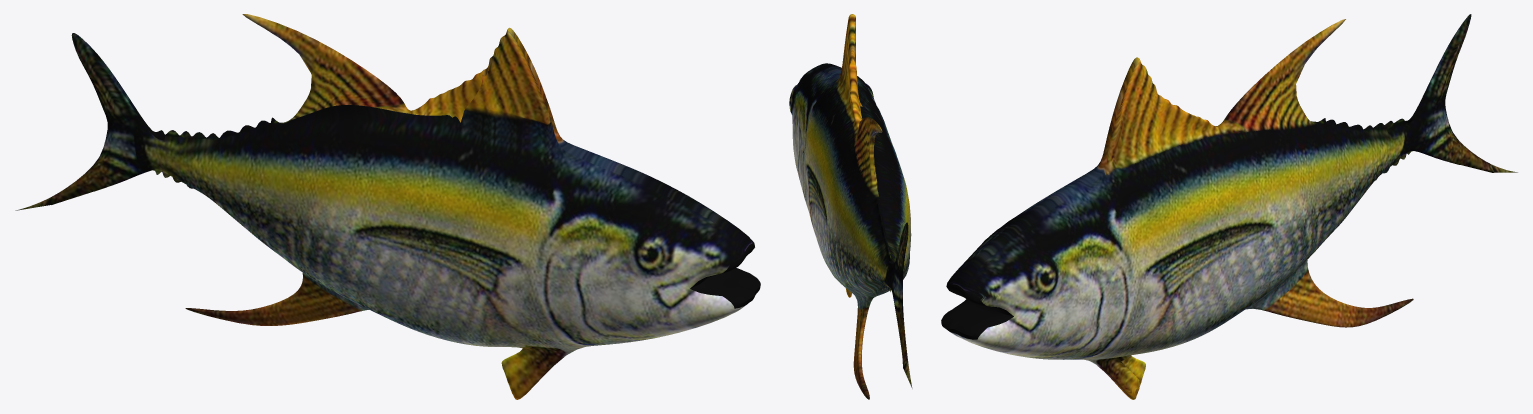
Rendered from tuna.dae.
3 renders of one model, left to right at view 1: azimuth 30°, elevation 25°; view 2: azimuth 150°, elevation 25°; view 3: azimuth 270°, elevation 25°, orthographic. The views are drawn at different scales.
Parts seen in each view (by area): view 1: fish2; view 2: fish2; view 3: fish2.
Boxes of the visible parts, x1,y1,x2,y2 form: fish2: (15, 14, 760, 399); fish2: (789, 14, 912, 399); fish2: (941, 14, 1517, 399).
Size of the model in its own units: 3.29 by 2.61 by 4.02.
Materials: 2 (1 with a texture image).
